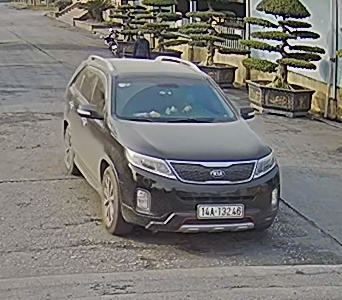vehicle plate: (193, 201, 248, 222)
